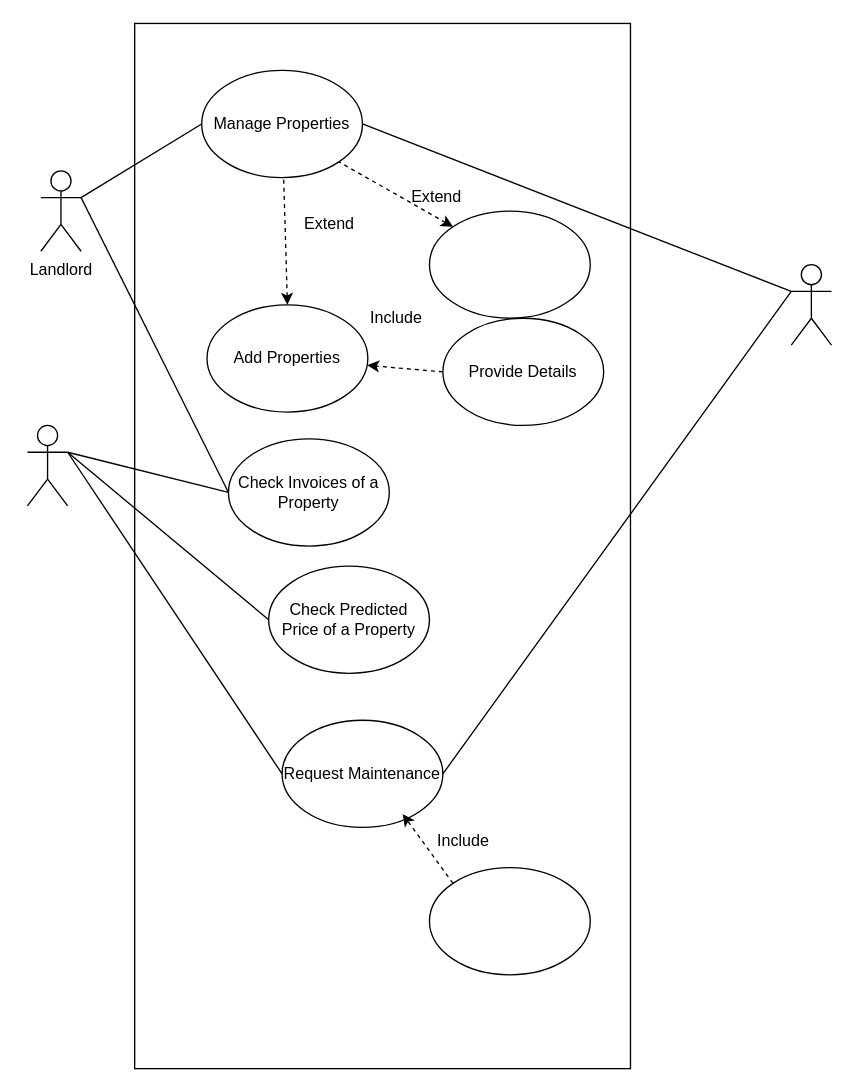
Image size: 858x1092. Some labels were removed from this diagram. The box of each missing label's shape, as (x1, y1, x2, y2) in pixels:
Provide necessary information: (428, 866, 590, 975)
Server: (790, 263, 831, 345)
Tenant: (26, 424, 68, 506)
Update/Delete Property Info: (428, 210, 590, 318)
